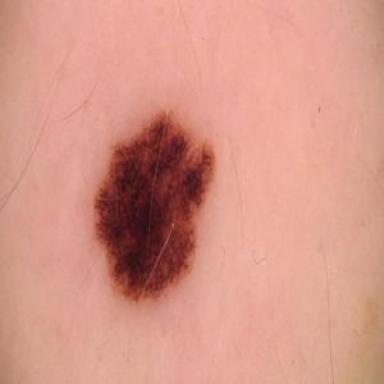Melanoma: (95, 113, 213, 300)
